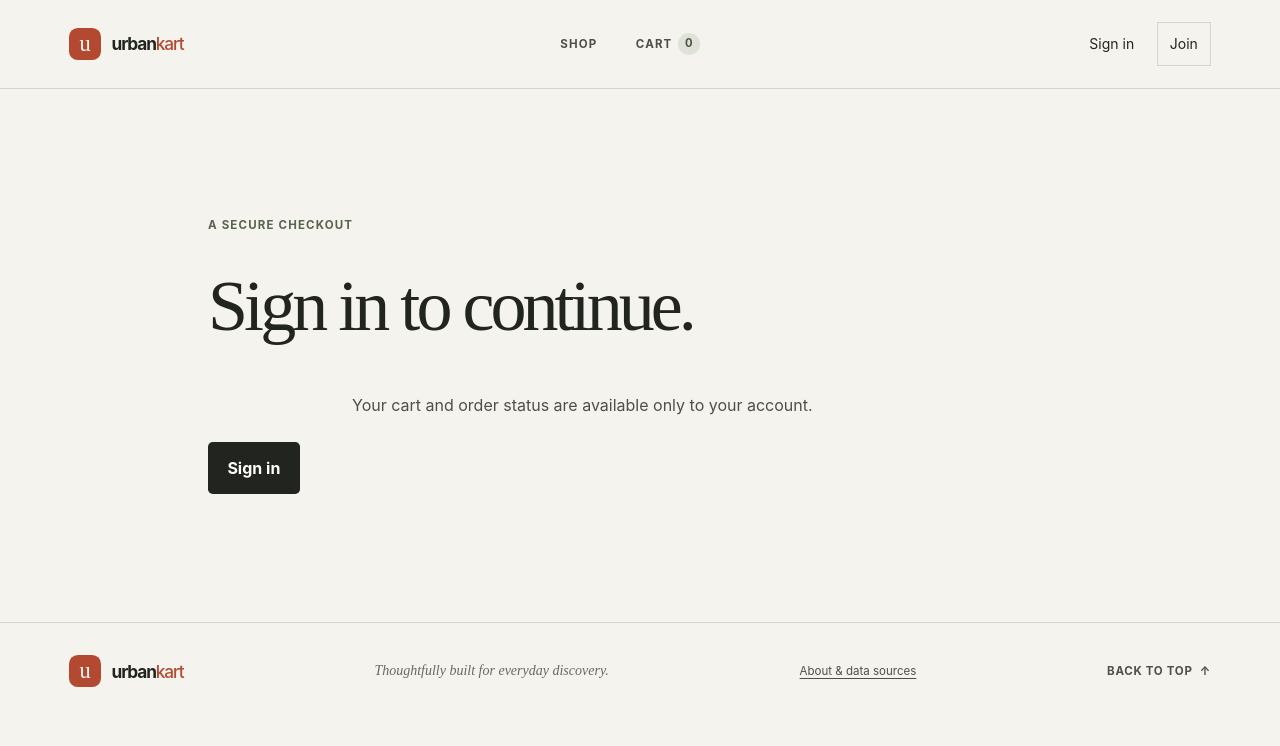
Test: Stage H checkout flow › reconciles an ambiguous result and retries with the same key
Step 1. Click the link "Sign in" below "Sign in to continue." → (254, 468), box left=208, top=442, right=300, bottom=494
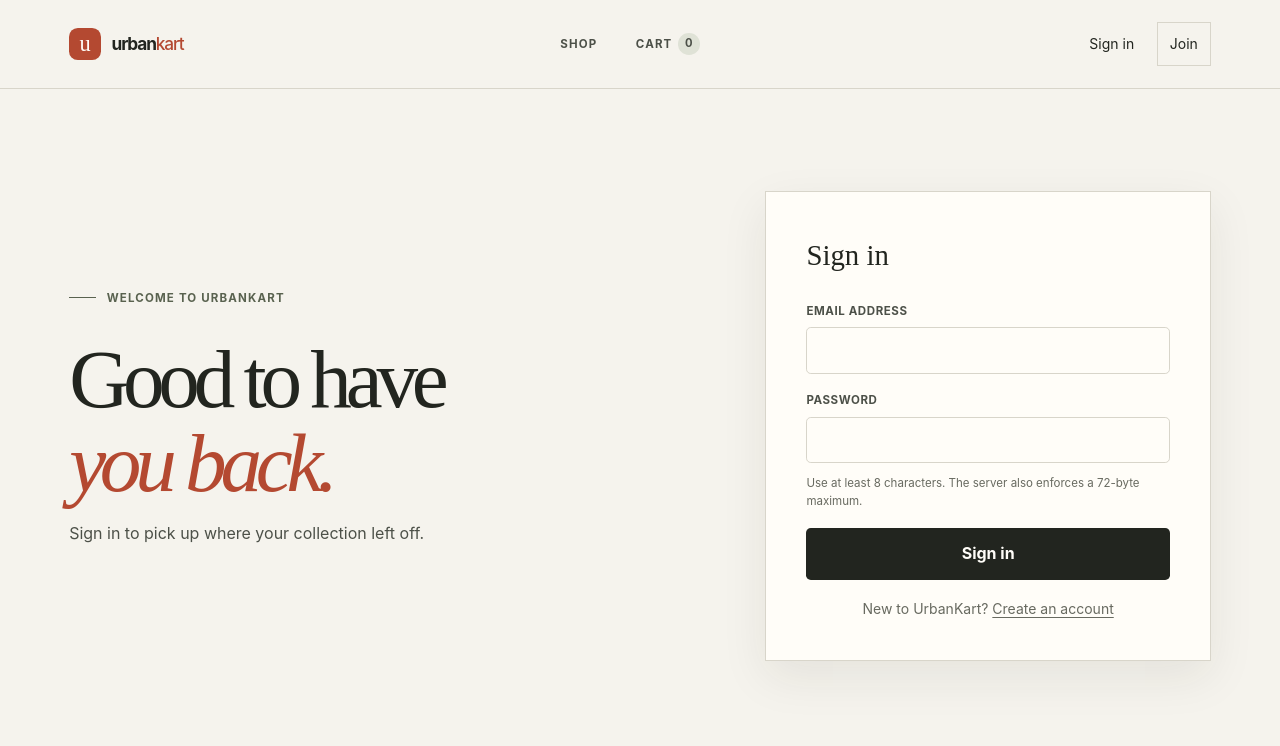
Step 2. Type "shopper@example.test" into the field labelled "Email address" → (988, 350), box left=806, top=327, right=1170, bottom=374
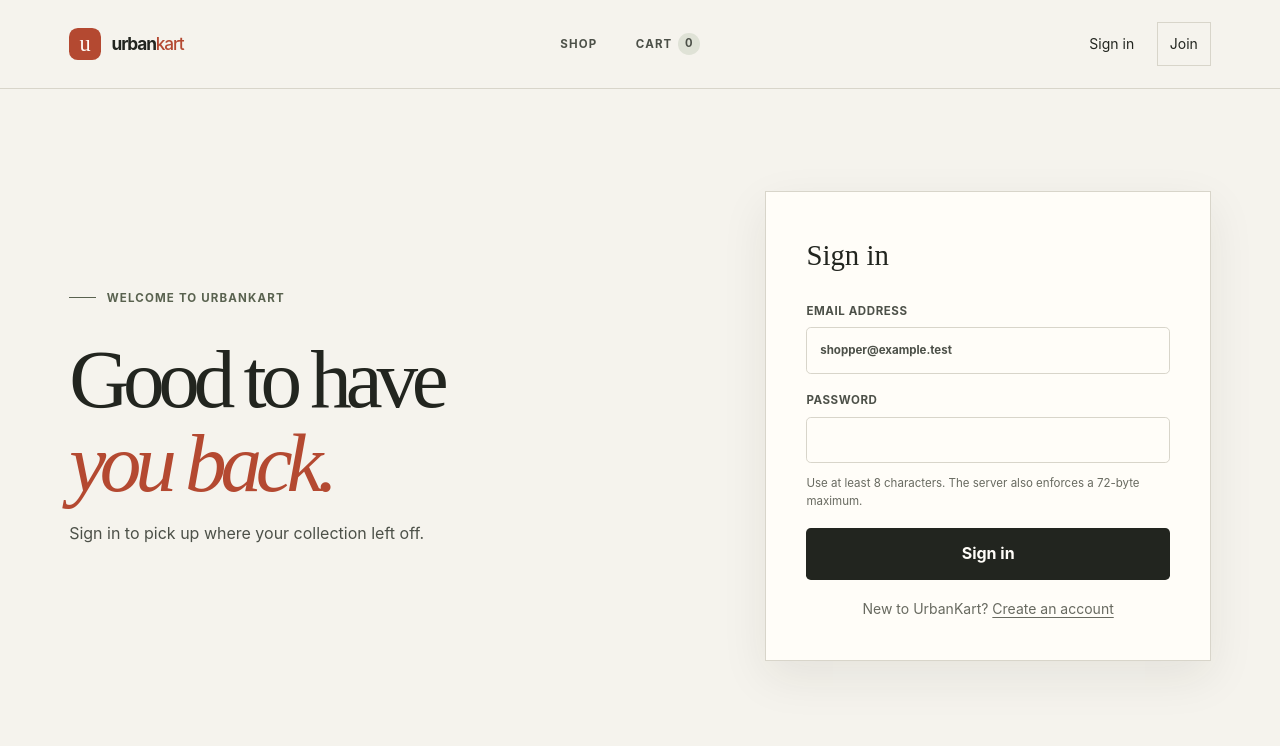
Step 3. Type "correct-horse" into the password field labelled "Password" → (988, 440), box left=806, top=417, right=1170, bottom=463
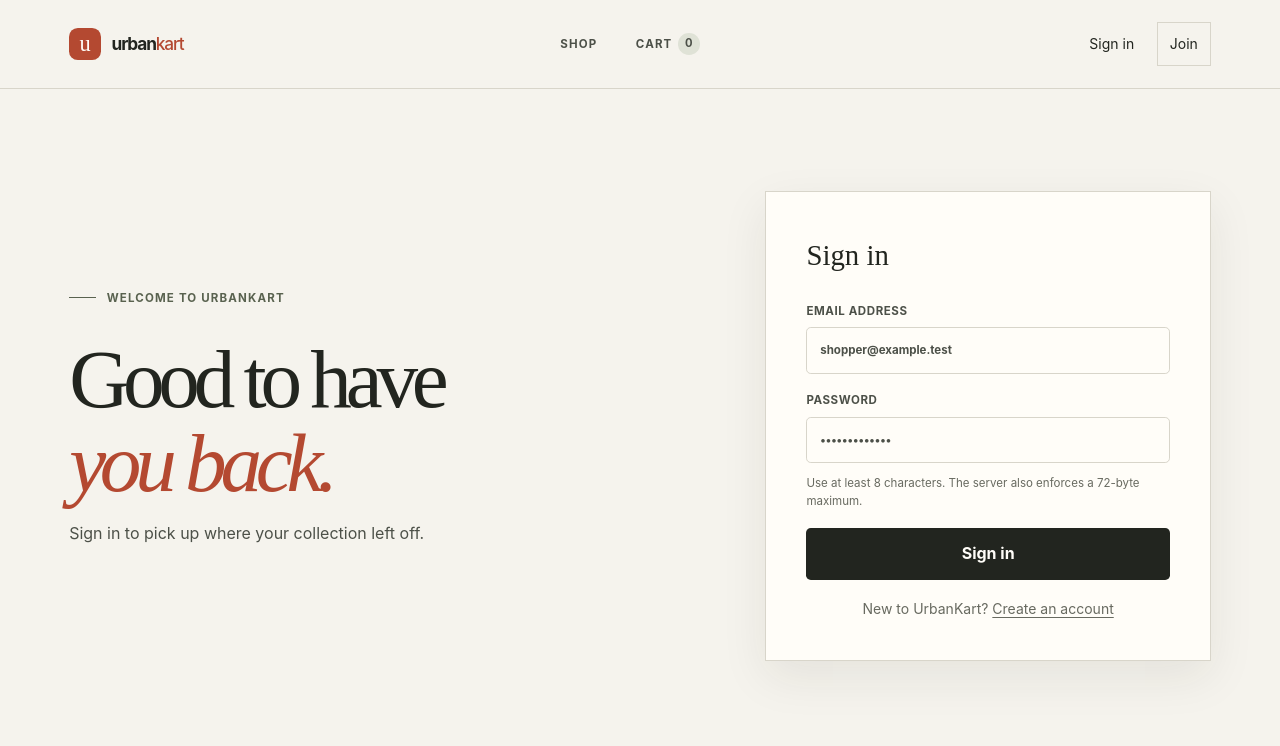
Step 4. Click the button "Sign in" → (988, 554), box left=806, top=528, right=1170, bottom=580
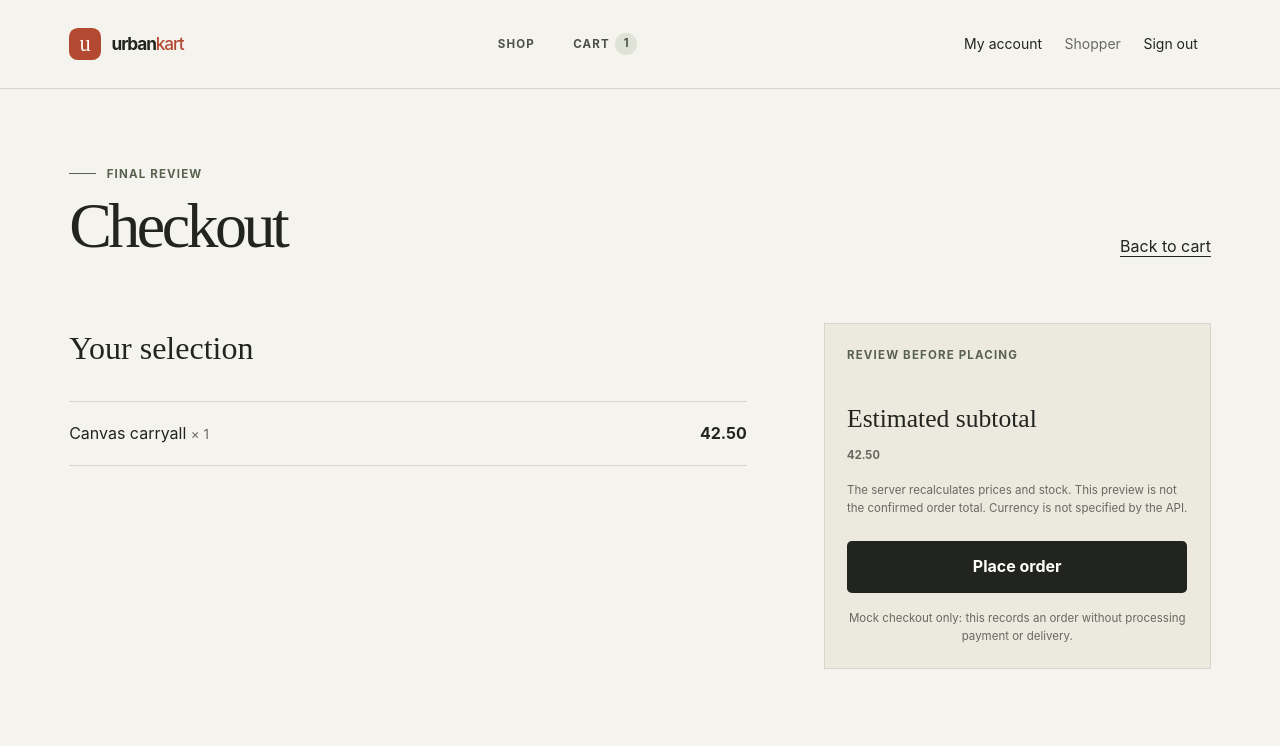
Now the button "Sign out" is shown, box left=1130, top=22, right=1211, bottom=66
Now the heading "Checkout" is shown, box left=69, top=192, right=286, bottom=260
Now the button "Place order" is shown
Step 5. Click the button "Place order" → (1017, 567), box left=847, top=541, right=1188, bottom=593
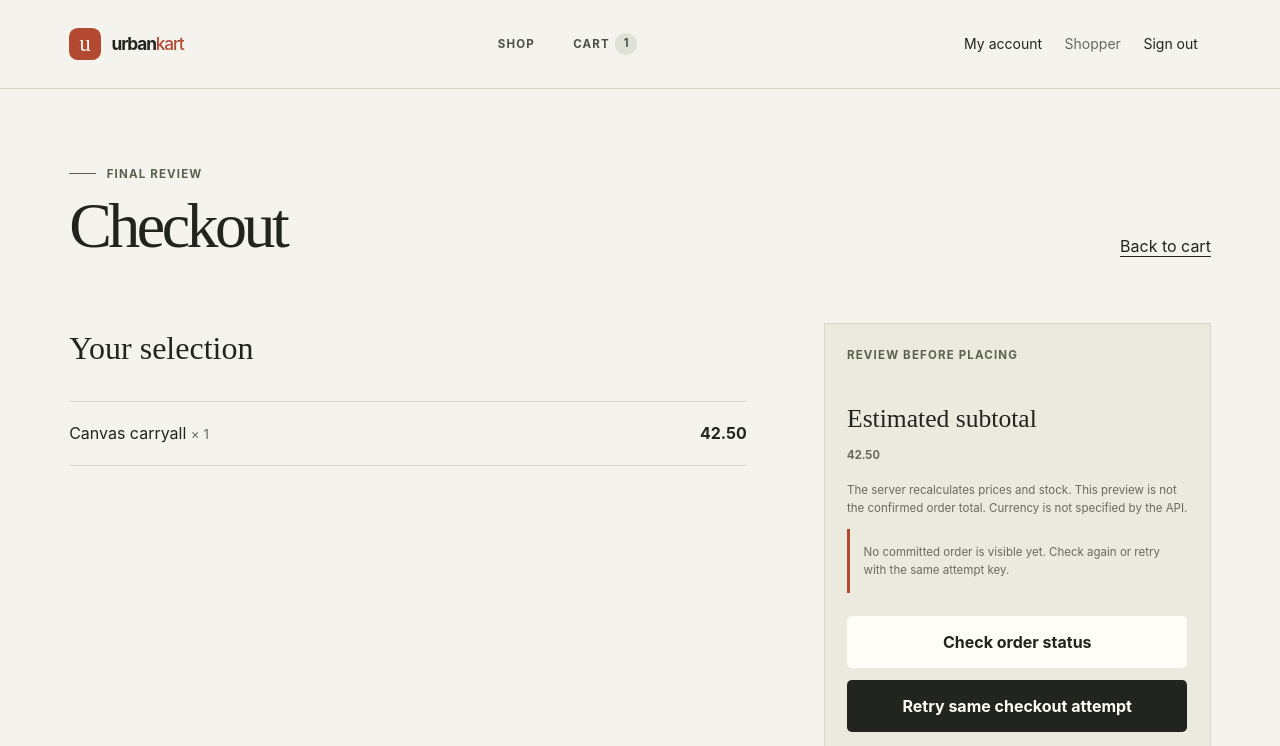
Now the button "Retry same checkout attempt" is shown
Step 6. Click the button "Retry same checkout attempt" → (1017, 706), box left=847, top=680, right=1188, bottom=732
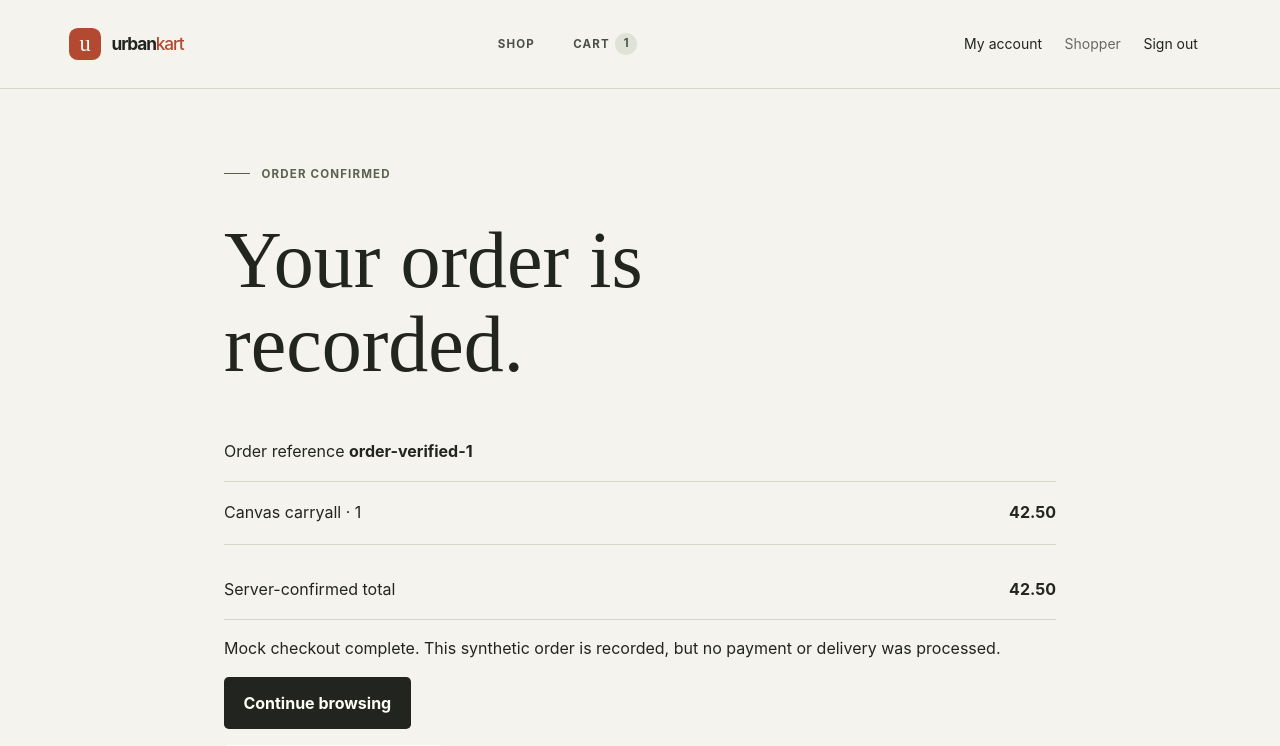
Now the text "order-verified-1" is shown, box left=349, top=441, right=473, bottom=461
